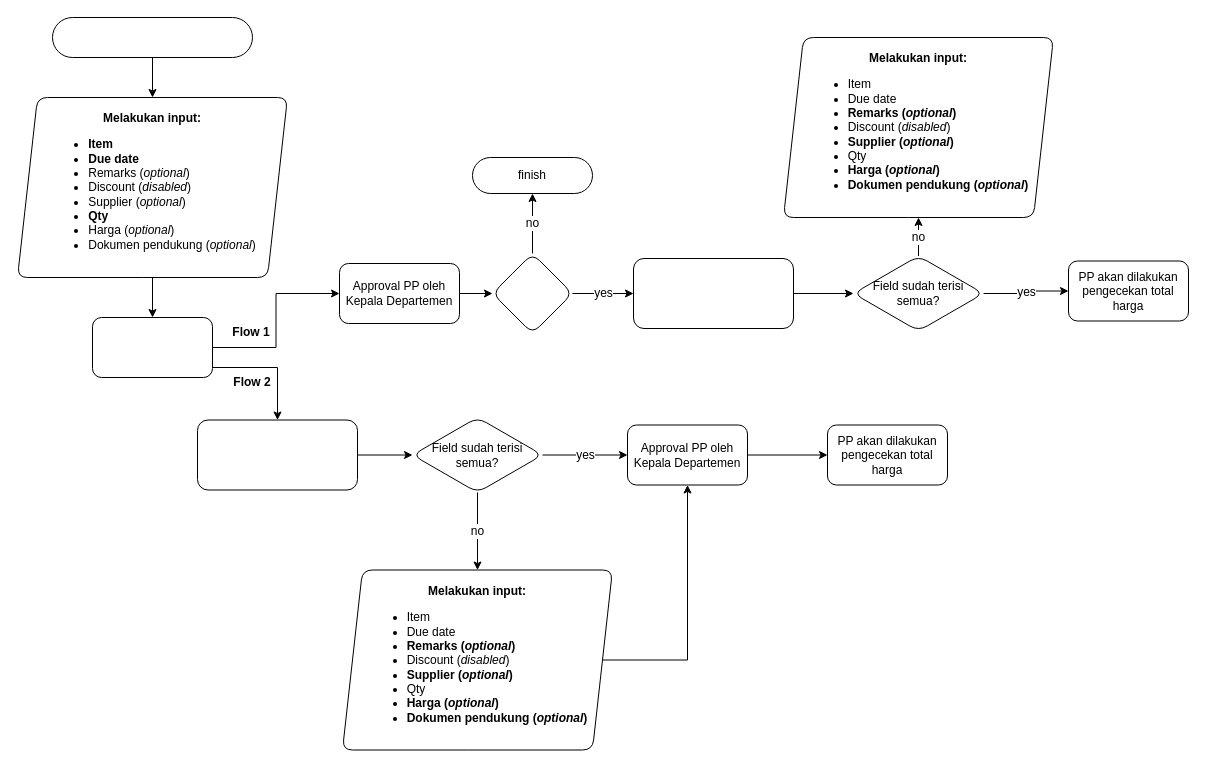
The diagram is 1206 pixels wide and 768 high, and some of its shapes have lost their labels. Here are the shapes that lost their labels. From the top down, the box of each, then its label:
(52, 16, 252, 58): User create PP ( Per Departemen )
(492, 252, 572, 334): Approve?
(632, 258, 794, 328): Purchasing melakukan pengecekan pada PP yang sudah dilakukan approval
(92, 316, 212, 378): PP berhasil dibuat oleh User
(196, 419, 358, 490): Purchasing melakukan pengecekan pada PP yang sudah dibuat oleh User
